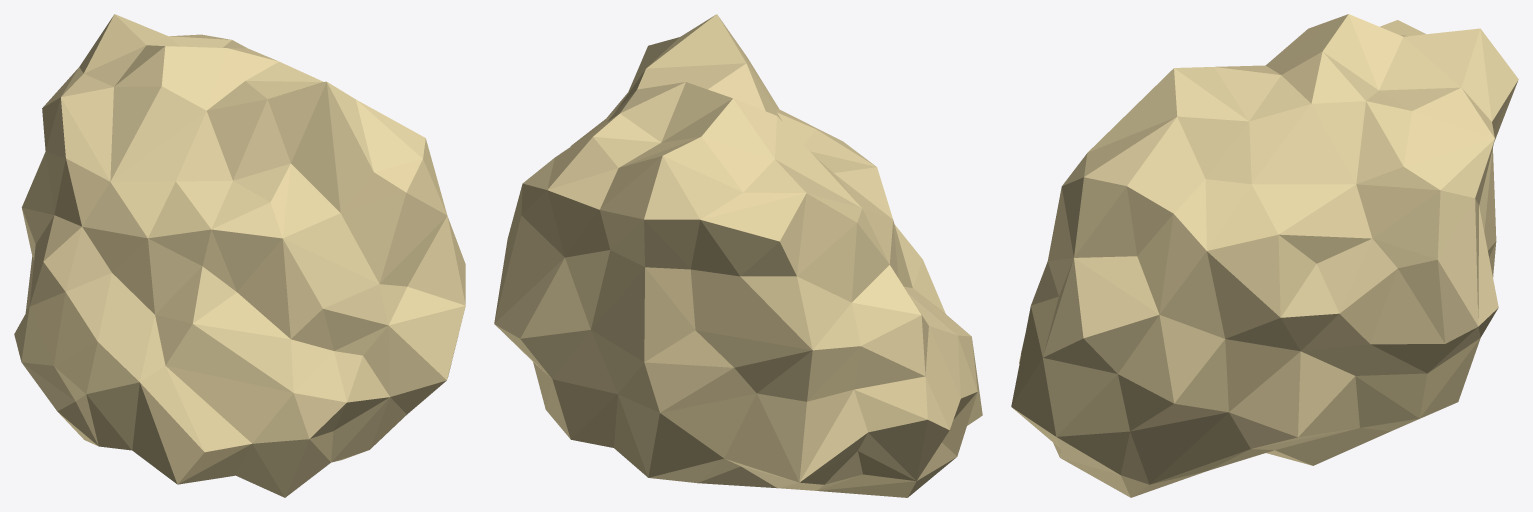
The model's file is Asteroid (107).fbx.
3 renders of one model, left to right at view 1: azimuth 30°, elevation 25°; view 2: azimuth 150°, elevation 25°; view 3: azimuth 270°, elevation 25°, orthographic. The views are drawn at different scales.
Parts seen in each view (by area): view 1: Asteroid217; view 2: Asteroid217; view 3: Asteroid217.
Boxes of the visible parts, x1,y1,x2,y2 form: Asteroid217: (14,14,465,497); Asteroid217: (494,14,982,497); Asteroid217: (1011,14,1518,497).
Bounding box in the file's own units: 389 × 386 × 409.
